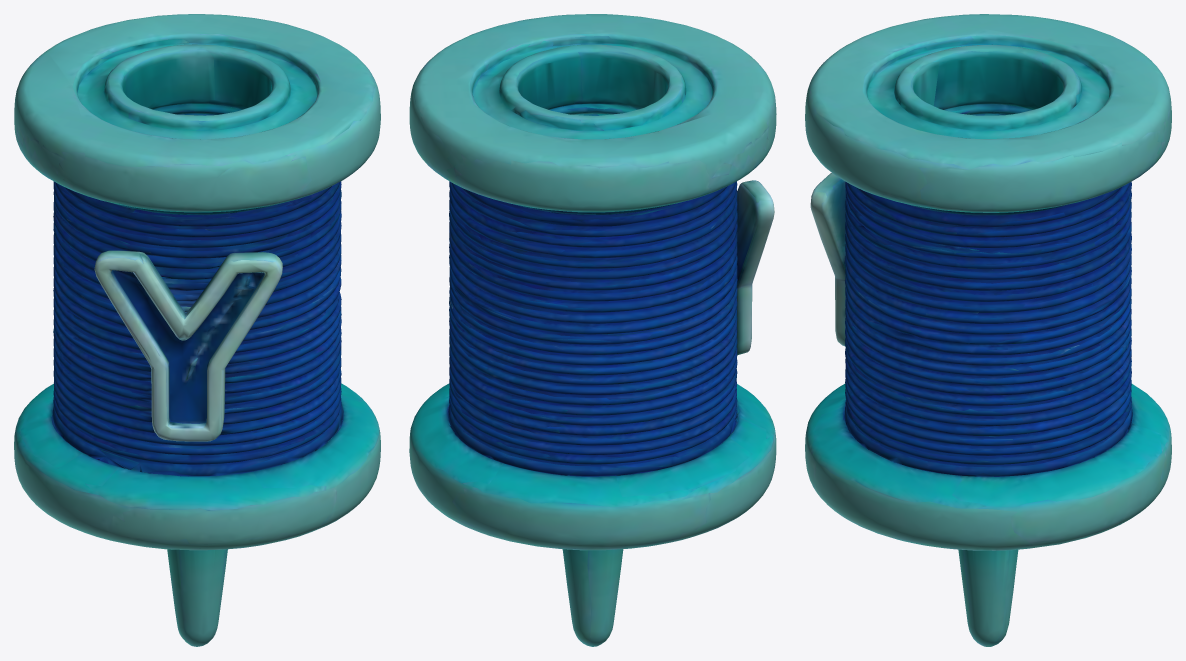
Rendered from yussi-thread-marker.glb.
The picture shows the model from 3 angles, left to right: view 1: azimuth 30°, elevation 25°; view 2: azimuth 150°, elevation 25°; view 3: azimuth 270°, elevation 25°; orthographic projection.
Visible parts, largest first — view 1: node_0; view 2: node_0; view 3: node_0.
Part boxes in pixels (left/top/right/bottom): node_0: left=14, top=14, right=380, bottom=646; node_0: left=409, top=14, right=776, bottom=646; node_0: left=805, top=14, right=1171, bottom=646.
Bounding box in the file's own units: 0.6273 × 1.06 × 0.6259.
Materials: 1 (1 with a texture image).
